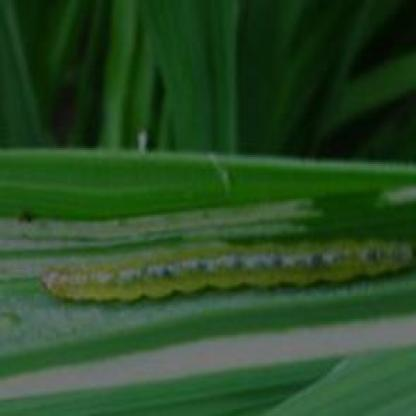leaf-folder: (33, 198, 416, 346)
